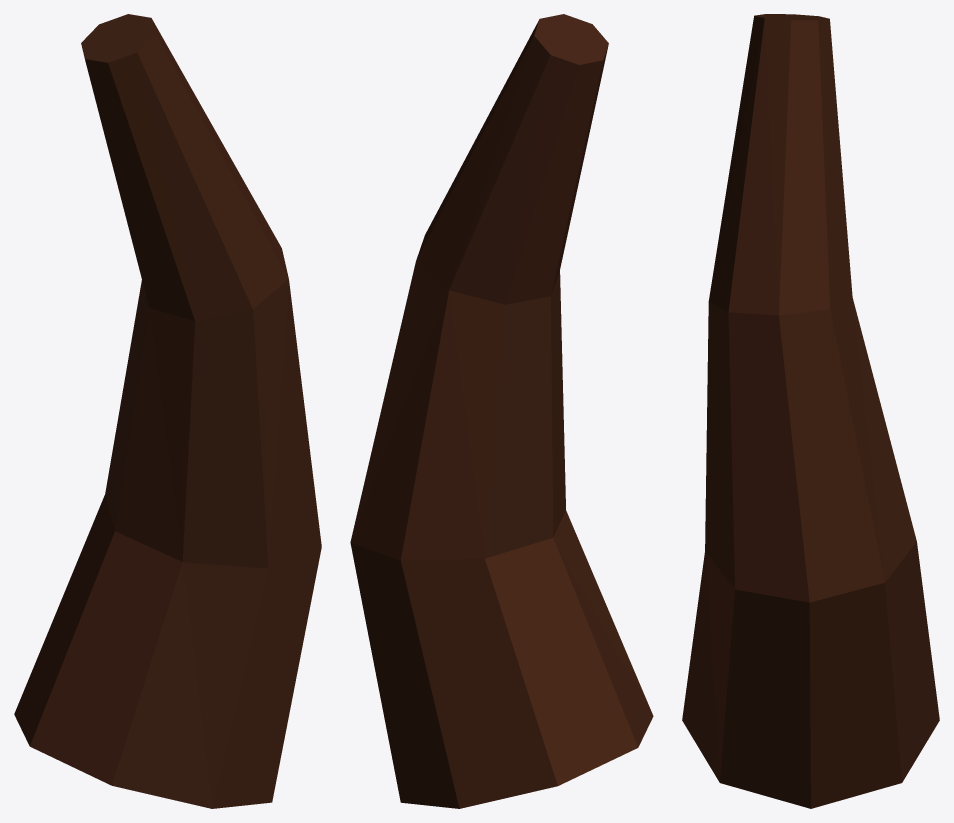
The model's file is N19_Willow_Trunk.fbx.
3 views of the same model, side by side, from view 1: azimuth 30°, elevation 25°; view 2: azimuth 150°, elevation 25°; view 3: azimuth 270°, elevation 25° (orthographic). The views are drawn at different scales.
Visible parts, largest first — view 1: N19_Willow_Trunk; view 2: N19_Willow_Trunk; view 3: N19_Willow_Trunk.
Boxes of the visible parts, x1,y1,x2,y2 form: N19_Willow_Trunk: [14, 14, 321, 808]; N19_Willow_Trunk: [350, 14, 653, 808]; N19_Willow_Trunk: [682, 14, 939, 808].
Size of the model in its own units: 0.8004 by 2.14 by 0.68.
1 material, 1 textured.
